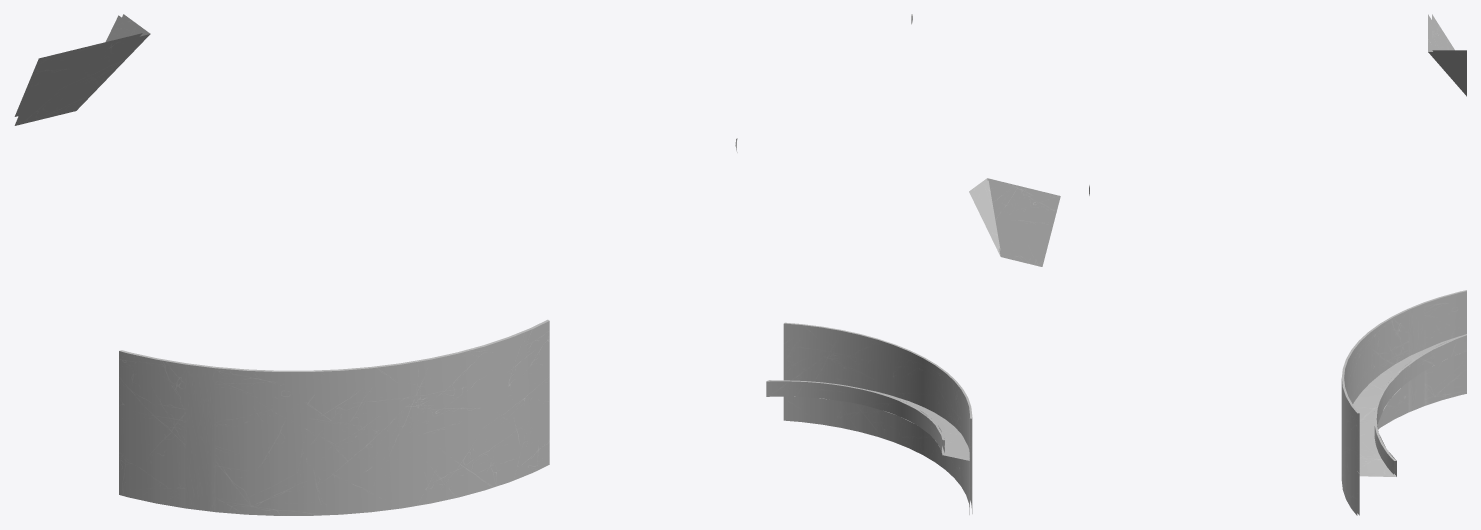
File: TightenerStation_Cube11.glb
3 views of the same model, side by side, from view 1: azimuth 30°, elevation 25°; view 2: azimuth 150°, elevation 25°; view 3: azimuth 270°, elevation 25° (orthographic). The views are drawn at different scales.
Visible parts, largest first — view 1: color-2.013; view 2: color-2.013; view 3: color-2.013.
Part boxes in pixels (x1,y1,x2,y2): color-2.013: (14,14,737,515); color-2.013: (766,14,1060,514); color-2.013: (1089,14,1466,515).
Size of the model in its own units: 0.32 by 0.32 by 0.32.
Materials: 2 (2 with a texture image).
